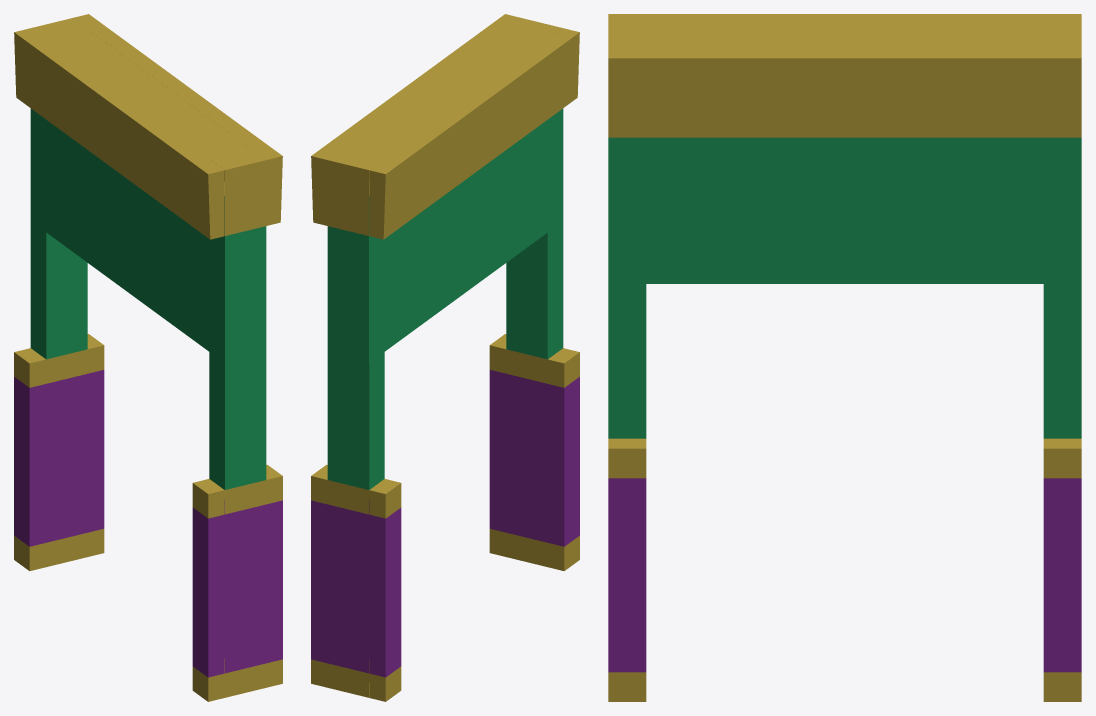
Rendered from Doorway.FBX.
3 views of the same model, side by side, from view 1: azimuth 30°, elevation 25°; view 2: azimuth 150°, elevation 25°; view 3: azimuth 270°, elevation 25° (orthographic). The views are drawn at different scales.
Visible parts, largest first — view 1: Doorway; view 2: Doorway; view 3: Doorway.
Boxes of the visible parts, x1,y1,x2,y2 form: Doorway: (14, 14, 282, 701); Doorway: (311, 14, 579, 701); Doorway: (608, 14, 1081, 701).
Size of the model in its own units: 0.7405 by 5 by 3.33.
